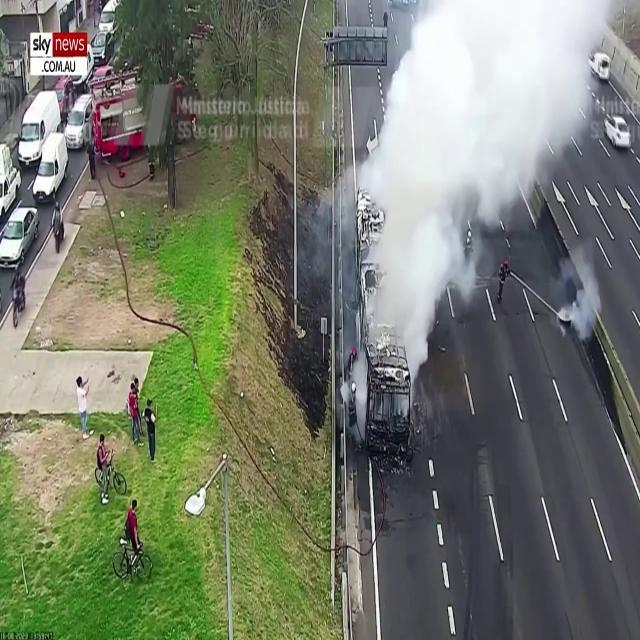Smoke: (360, 3, 634, 350)
